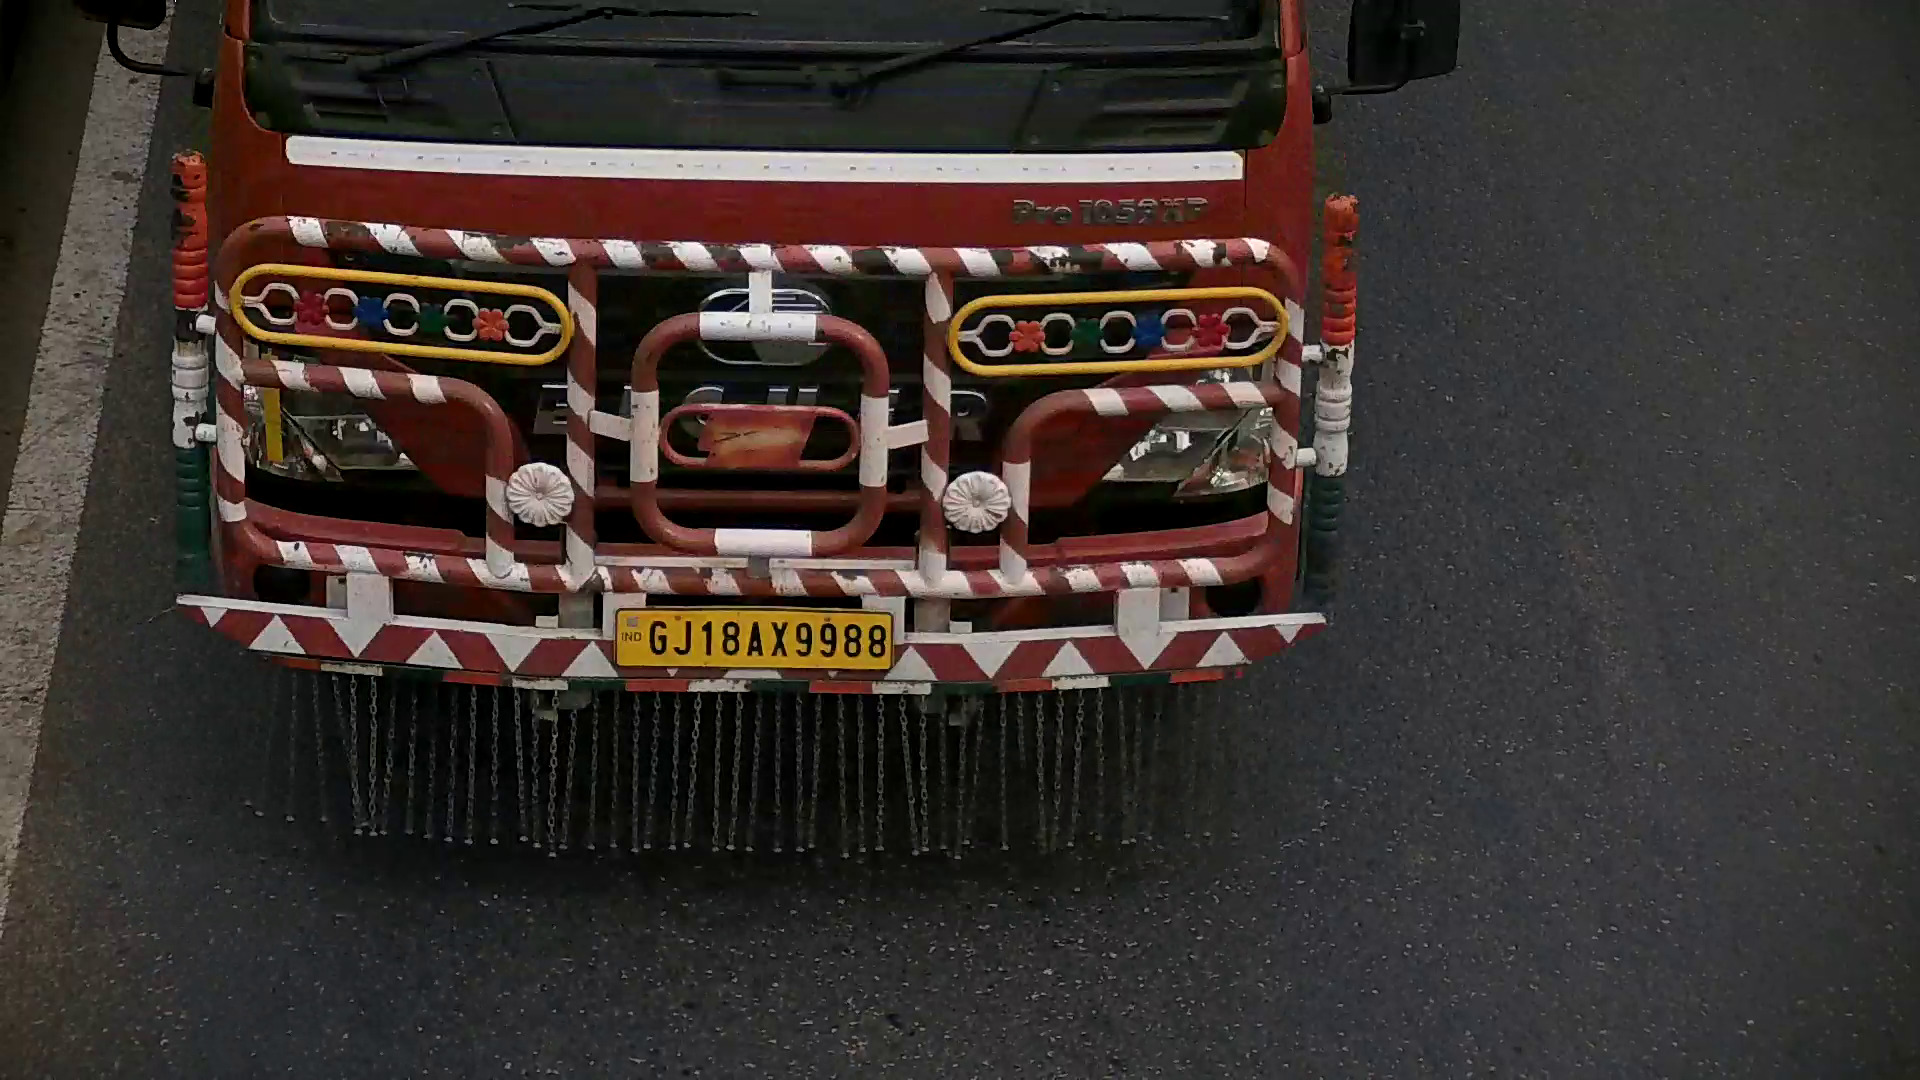numberplate: (611, 607, 897, 675)
